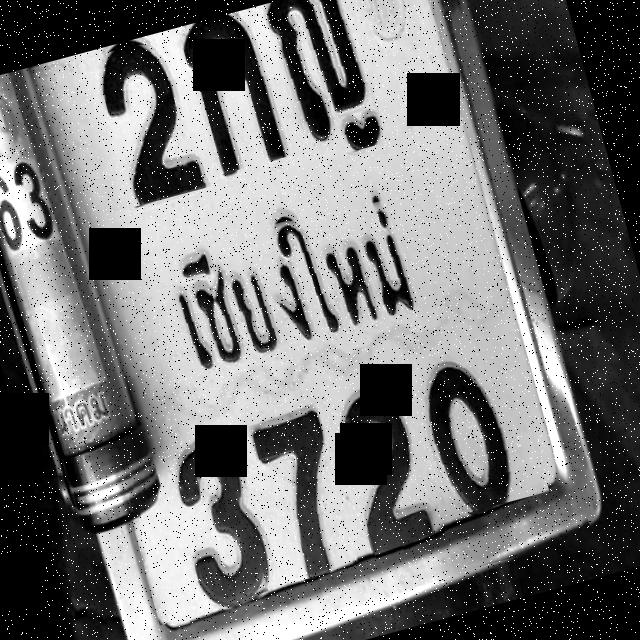letters: (112, 417, 274, 625), (396, 320, 549, 520), (64, 32, 214, 214), (327, 358, 450, 562), (258, 0, 402, 164), (238, 393, 359, 585), (166, 6, 293, 178)
license-plate: (0, 0, 583, 640)
province: (147, 180, 449, 393)
